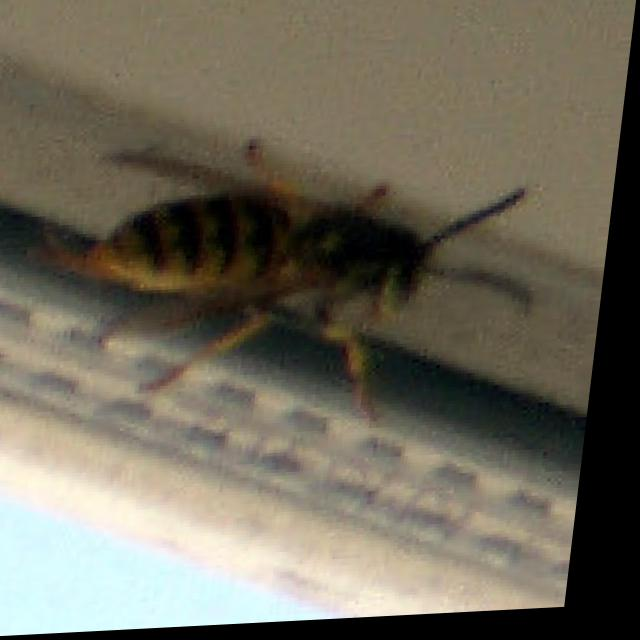Guepe: (12, 92, 584, 479)
